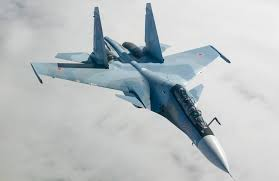fighter: (29, 1, 238, 174)
